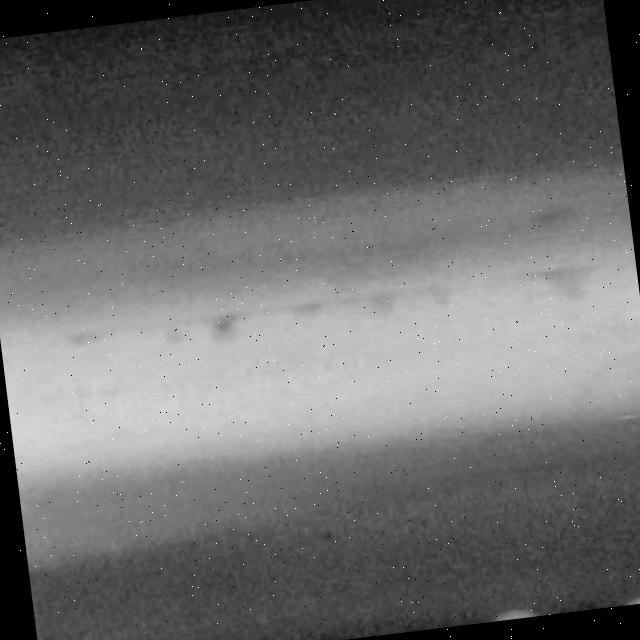LoP-LoF: (26, 209, 630, 387)
Pore: (522, 266, 600, 314), (200, 316, 241, 344)
